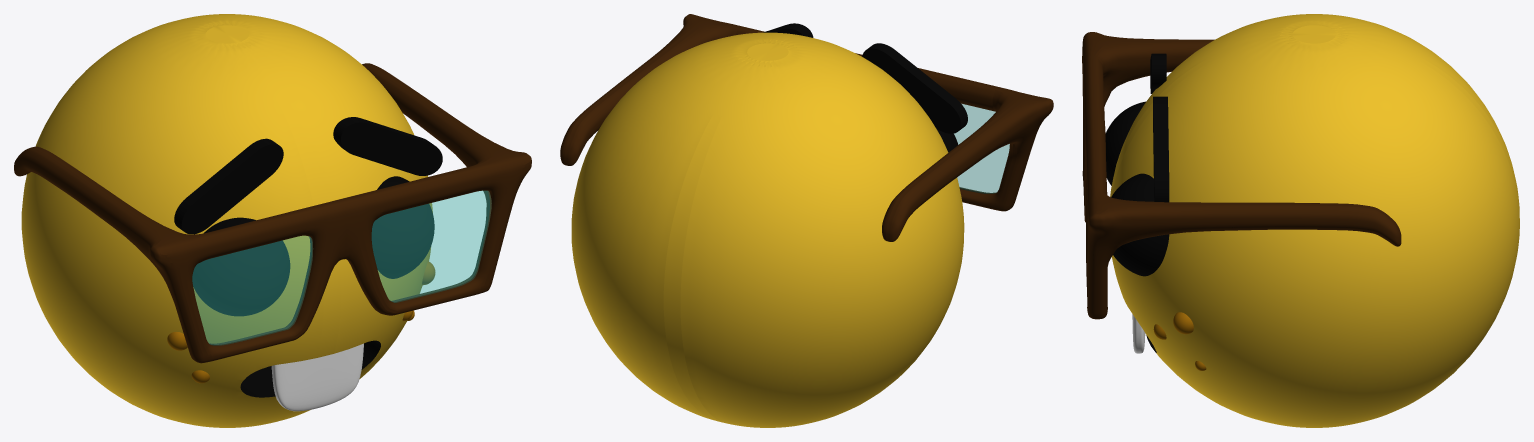
The model's file is emoji.gltf.
The picture shows the model from 3 angles, left to right: view 1: azimuth 30°, elevation 25°; view 2: azimuth 150°, elevation 25°; view 3: azimuth 270°, elevation 25°; orthographic projection. The views are drawn at different scales.
Visible parts, largest first — view 1: Cube; view 2: Cube; view 3: Cube.
Part boxes in pixels (bbox=[...]): Cube: bbox=[14, 14, 531, 427]; Cube: bbox=[560, 14, 1053, 427]; Cube: bbox=[1082, 14, 1519, 427].
Size of the model in its own units: 13.04 by 12.22 by 12.99.
